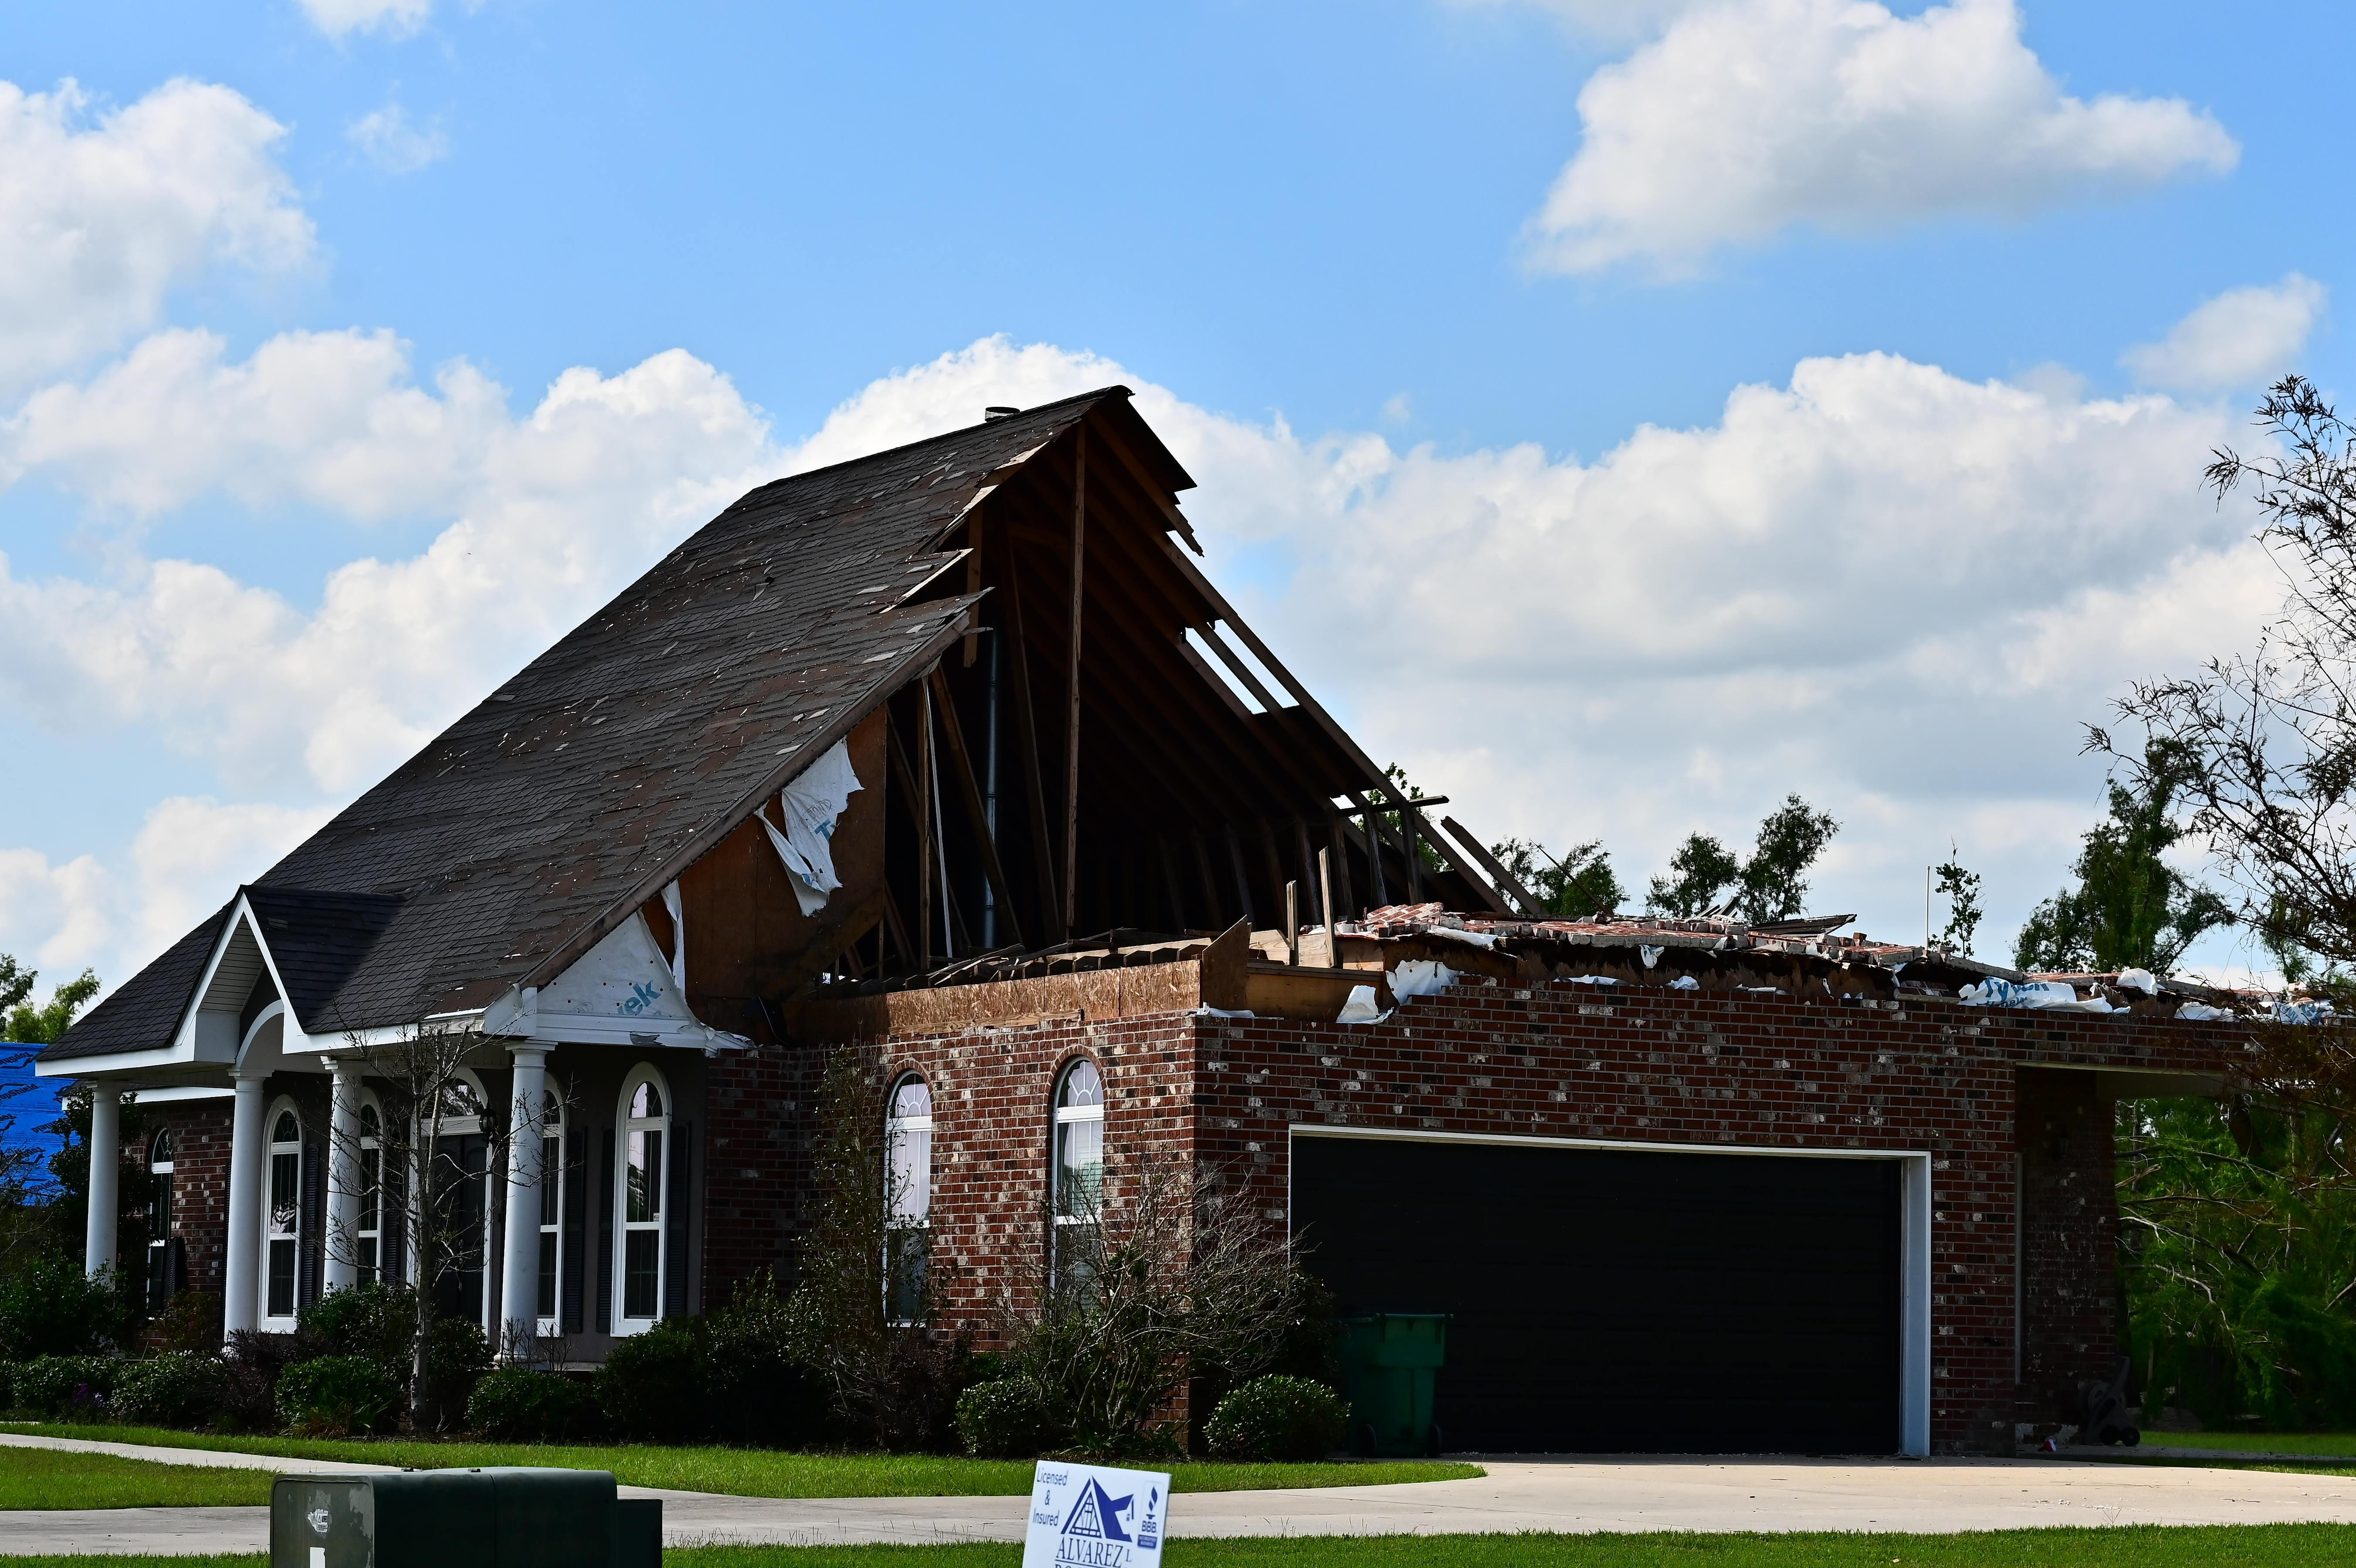destroyed: (60, 346, 2340, 1470)
